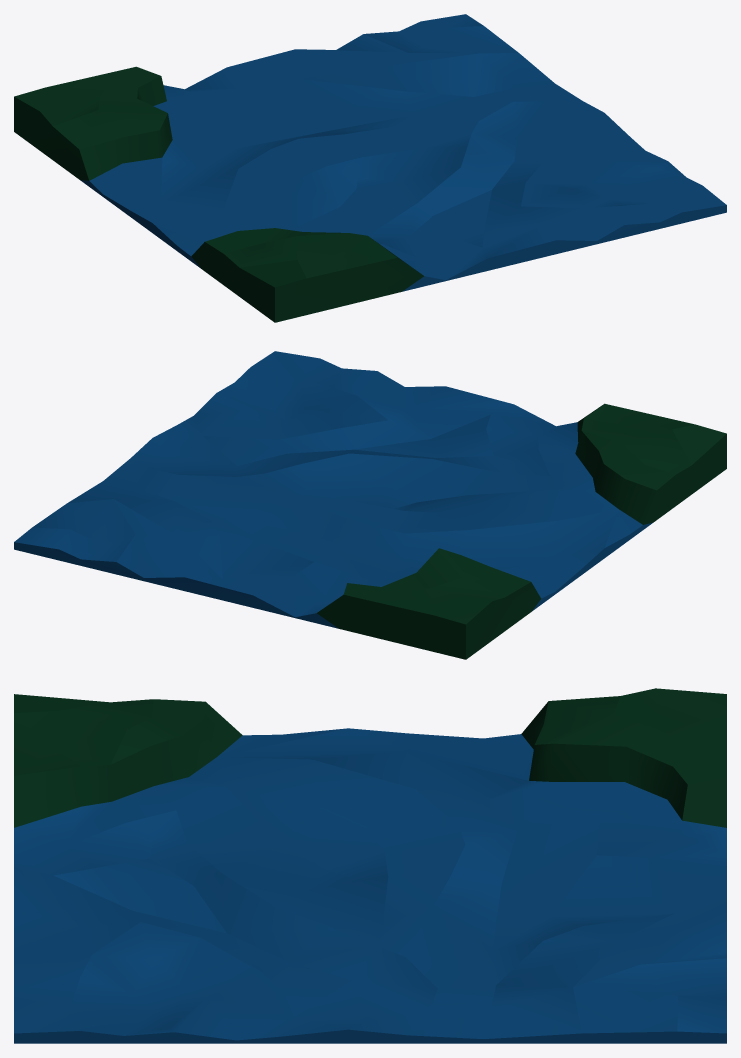
File: Water_River_Entrance_L.fbx
3 renders of one model, top to bottom at view 1: azimuth 30°, elevation 25°; view 2: azimuth 150°, elevation 25°; view 3: azimuth 270°, elevation 25°, orthographic. The views are drawn at different scales.
Parts seen in each view (by area): view 1: Water_River_Entrance_L; view 2: Water_River_Entrance_L; view 3: Water_River_Entrance_L.
Boxes of the visible parts, box(x1,y1,x2,y2) form: Water_River_Entrance_L: box(14, 14, 726, 322); Water_River_Entrance_L: box(14, 351, 726, 659); Water_River_Entrance_L: box(14, 688, 726, 1043).
Bounding box in the file's own units: 147 × 13.39 × 147.
